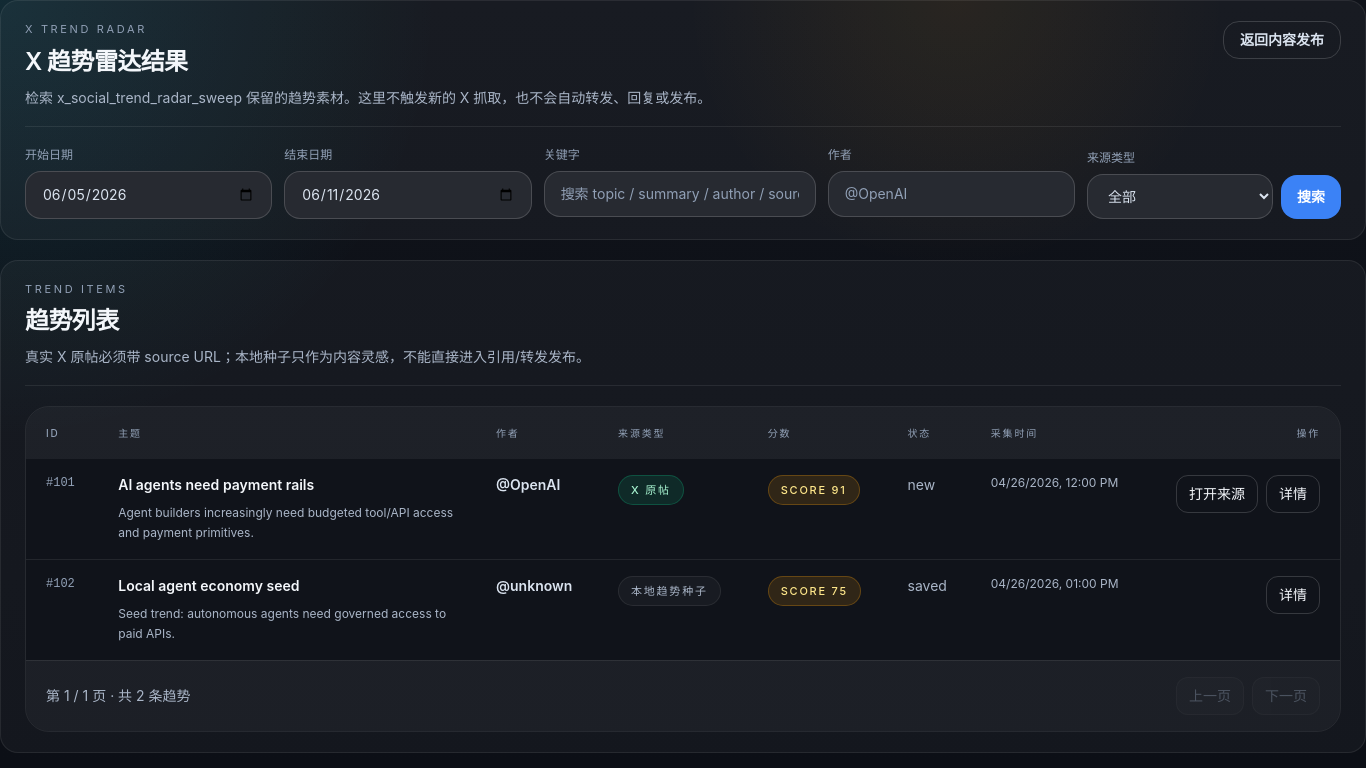
PublishingTrendResultsPage › shows local seed guidance in the detail modal when source url is missing
Expected: the text "Local agent economy seed" is shown, [118,577,300,594]
Click the button "详情" in the row of "102".
click(1293, 595)  # box [1266,576,1320,614]
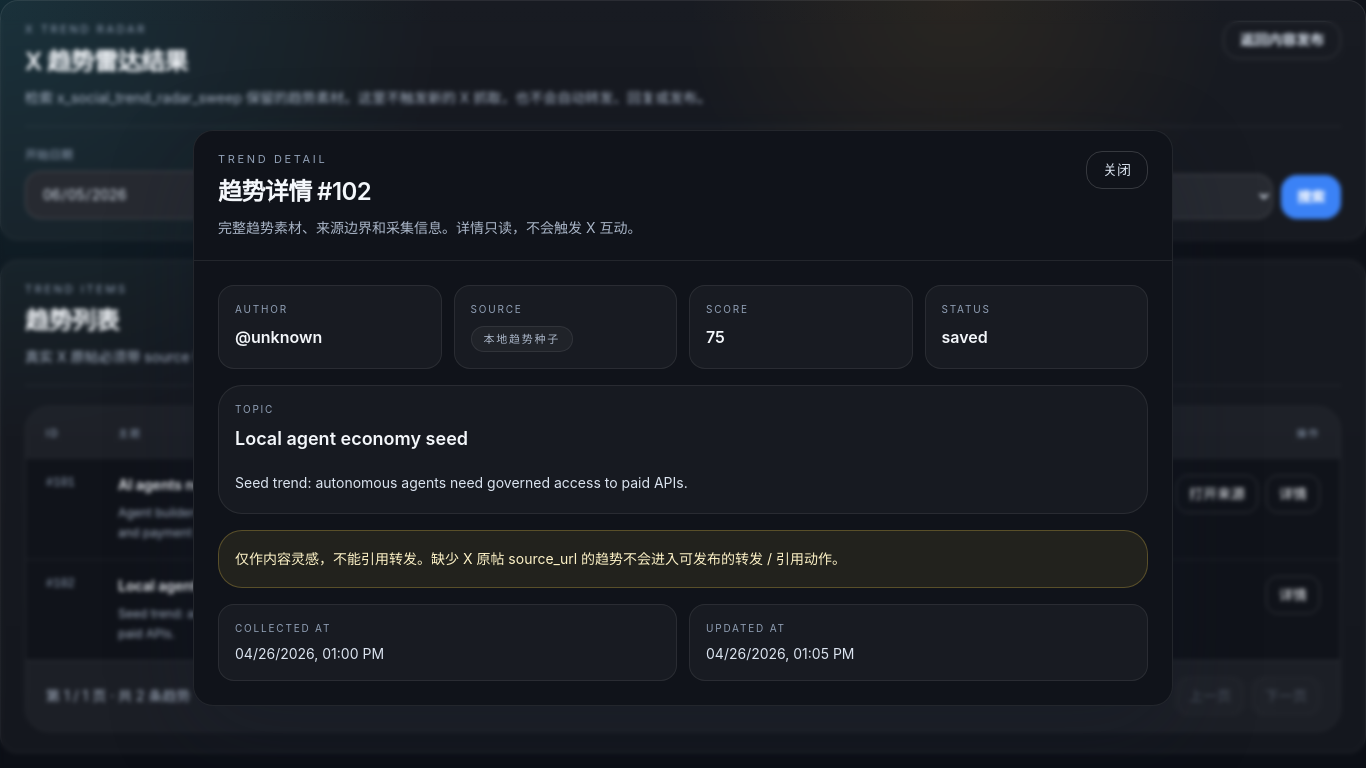
Result: the dialog "趋势详情 #102" is shown at [193,130,1173,706]
Result: the text "仅作内容灵感，不能引用转发。缺少 X 原帖 source_url 的趋势不会进入可发布的转发 / 引用动作。" is shown at [218,530,1148,588]
